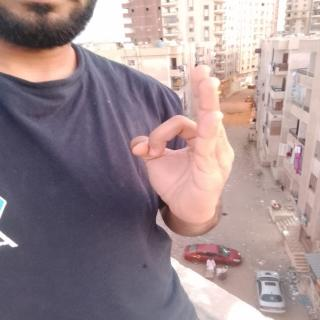Space: (129, 61, 238, 238)
